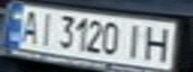0: (103, 19, 124, 56)
1: (69, 16, 87, 52)
2: (84, 17, 106, 54)
3: (54, 14, 75, 50)
A: (15, 7, 42, 45)
H: (139, 24, 178, 63)
I: (121, 21, 148, 61), (33, 10, 60, 47)
